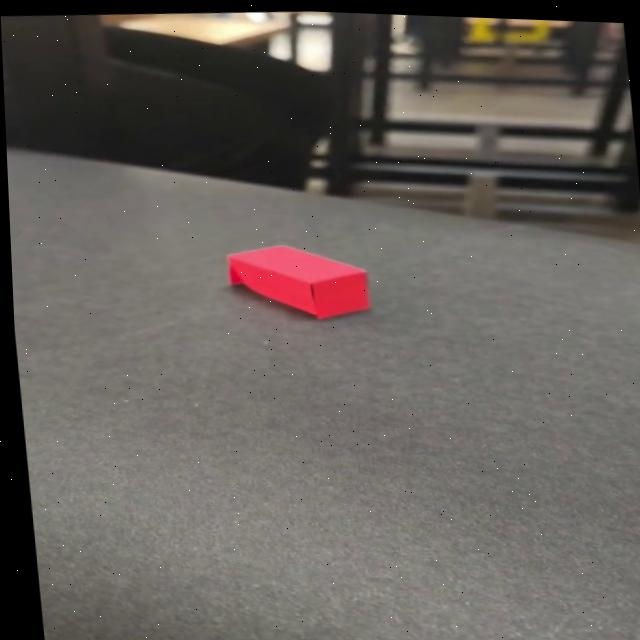red block: (225, 237, 374, 326)
